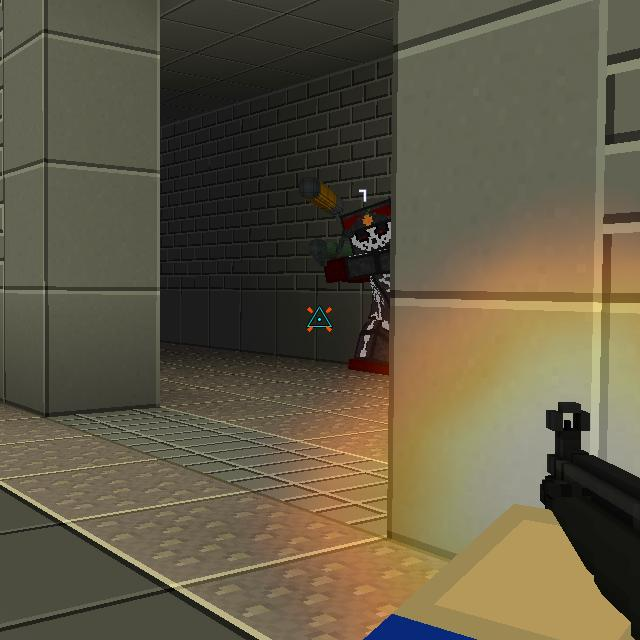enemy: (324, 196, 392, 377)
